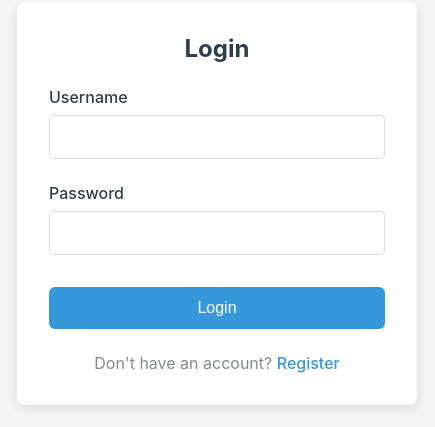
Test: Login Component › disables button while loading
Step 1. Type "testuser" into the field labelled "Username" → (217, 136), box [49, 114, 385, 158]
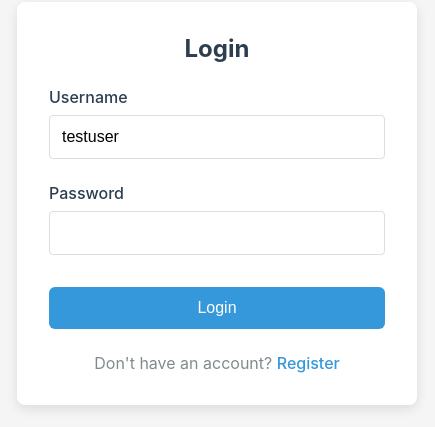
Step 2. Type "password123" into the password field labelled "Password" → (217, 232), box [49, 210, 385, 254]
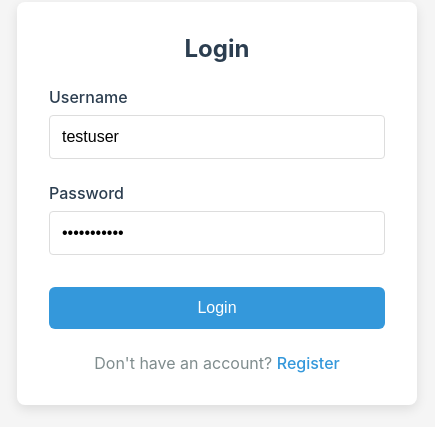
Step 3. Click the button "Login" → (217, 308), box [49, 286, 385, 328]
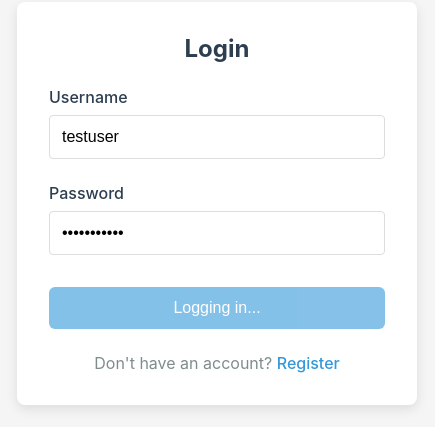
Result: the button named "login" is disabled at [49, 286, 385, 328]
